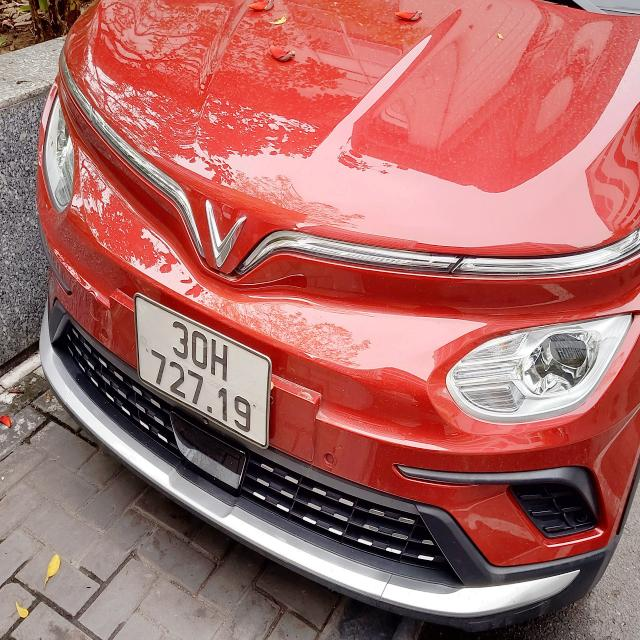license_plate: (139, 293, 270, 442)
